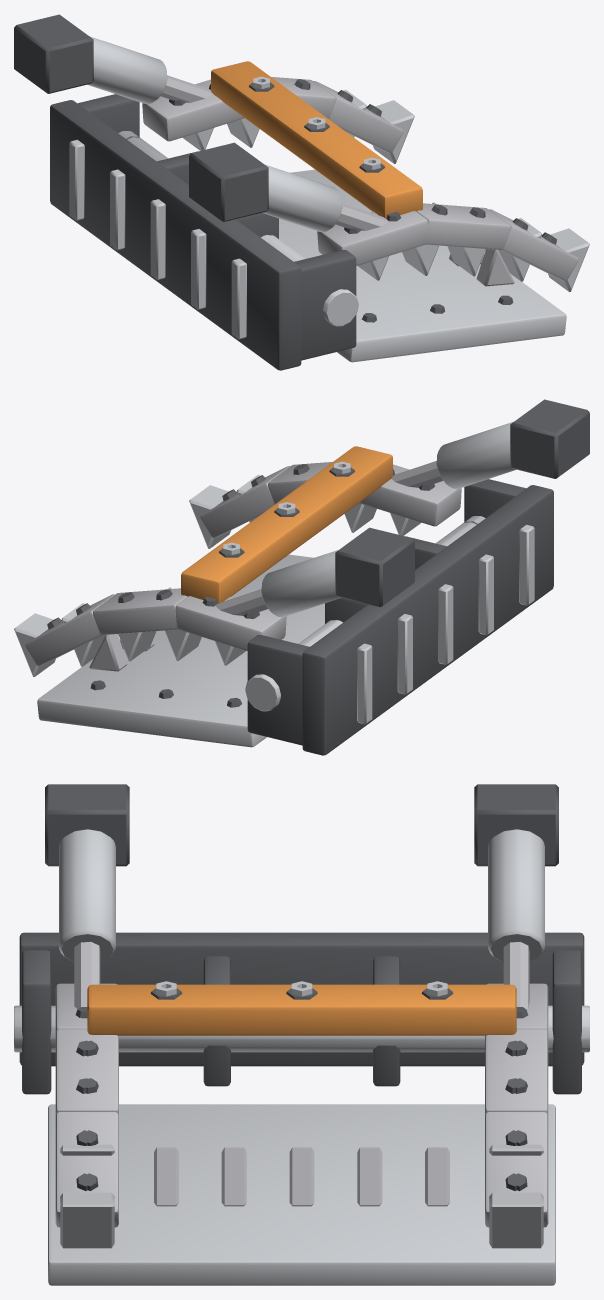
The model's file is thresher.glb.
The picture shows the model from 3 angles, top to bottom: view 1: azimuth 30°, elevation 25°; view 2: azimuth 150°, elevation 25°; view 3: azimuth 270°, elevation 25°; orthographic projection. The views are drawn at different scales.
Visible parts, largest first — view 1: body; view 2: body; view 3: body.
Boxes of the visible parts, <box> form: body: <box>14,14,589,370</box>; body: <box>14,399,589,755</box>; body: <box>14,784,589,1285</box>.
Bounding box in the file's own units: 0.4699 × 0.291 × 0.51.
